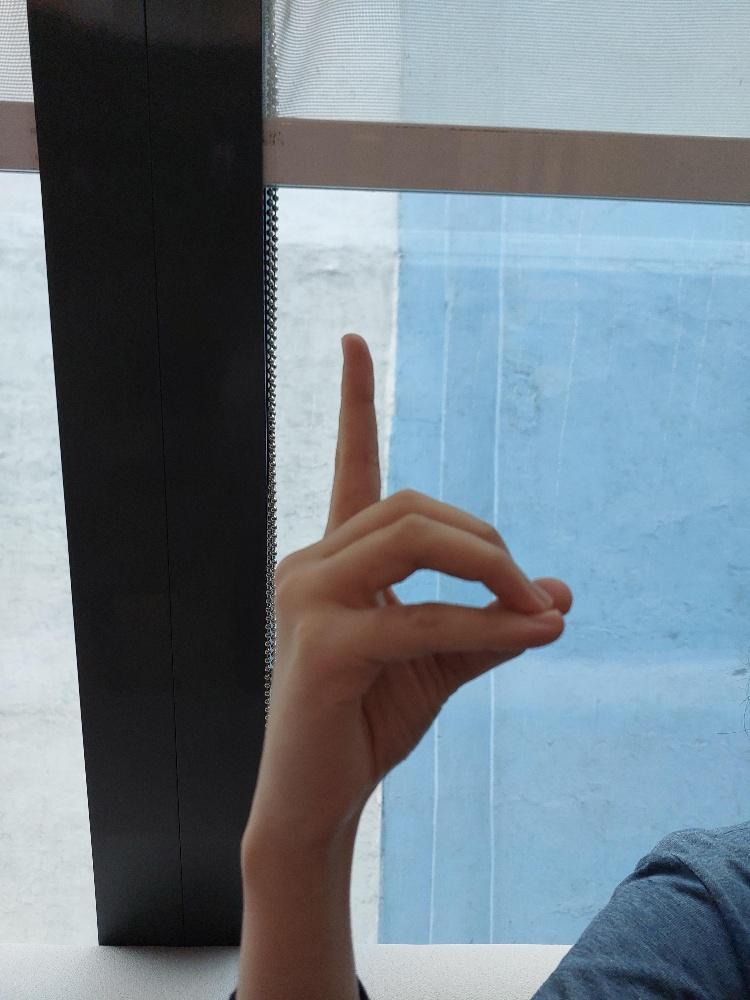d: (260, 330, 570, 834)
